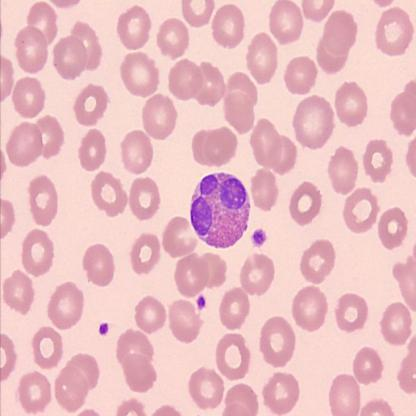Eosinophil: (188, 171, 252, 250)
